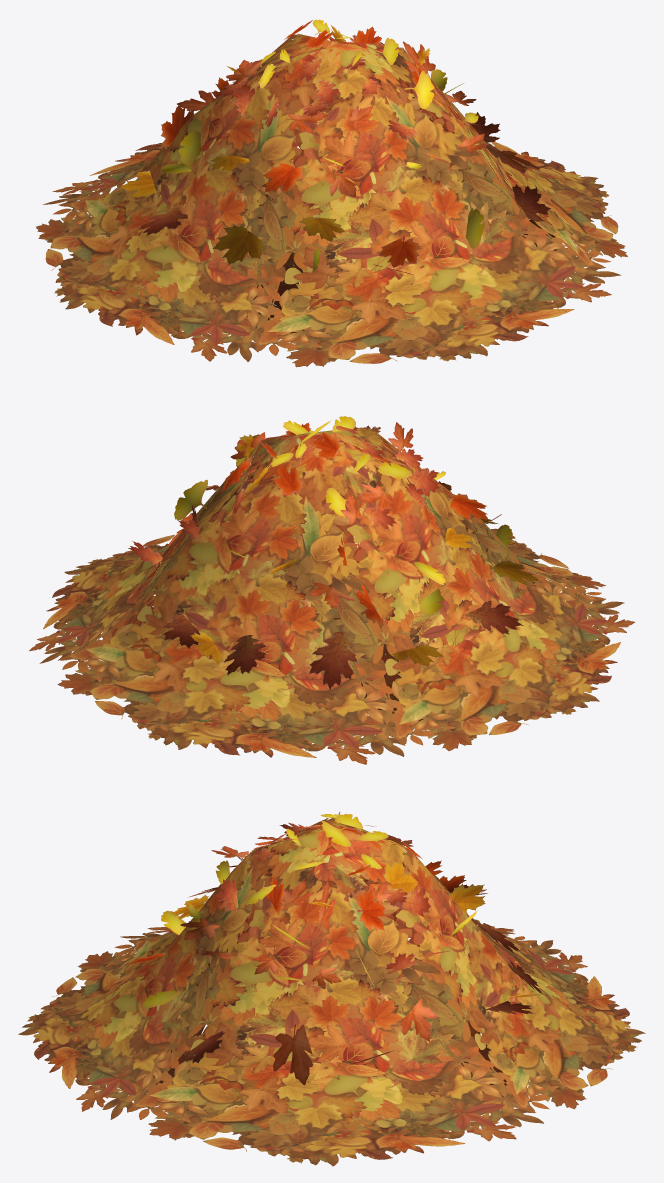
Rendered from CBS_FallenLeaves_00.FBX.
3 renders of one model, top to bottom at view 1: azimuth 30°, elevation 25°; view 2: azimuth 150°, elevation 25°; view 3: azimuth 270°, elevation 25°, orthographic.
Visible parts, largest first — view 1: CBS_FallenLeaves_00; view 2: CBS_FallenLeaves_00; view 3: CBS_FallenLeaves_00.
Part boxes in pixels (x1,y1,x2,y2): CBS_FallenLeaves_00: [36, 19, 627, 367]; CBS_FallenLeaves_00: [29, 416, 634, 764]; CBS_FallenLeaves_00: [18, 812, 645, 1166].
Size of the model in its own units: 152 by 57.56 by 152.
